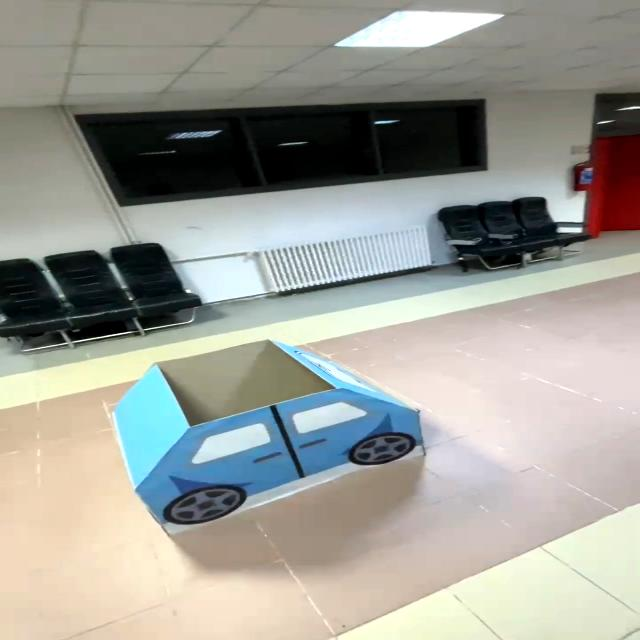blue_car: (80, 327, 459, 558)
